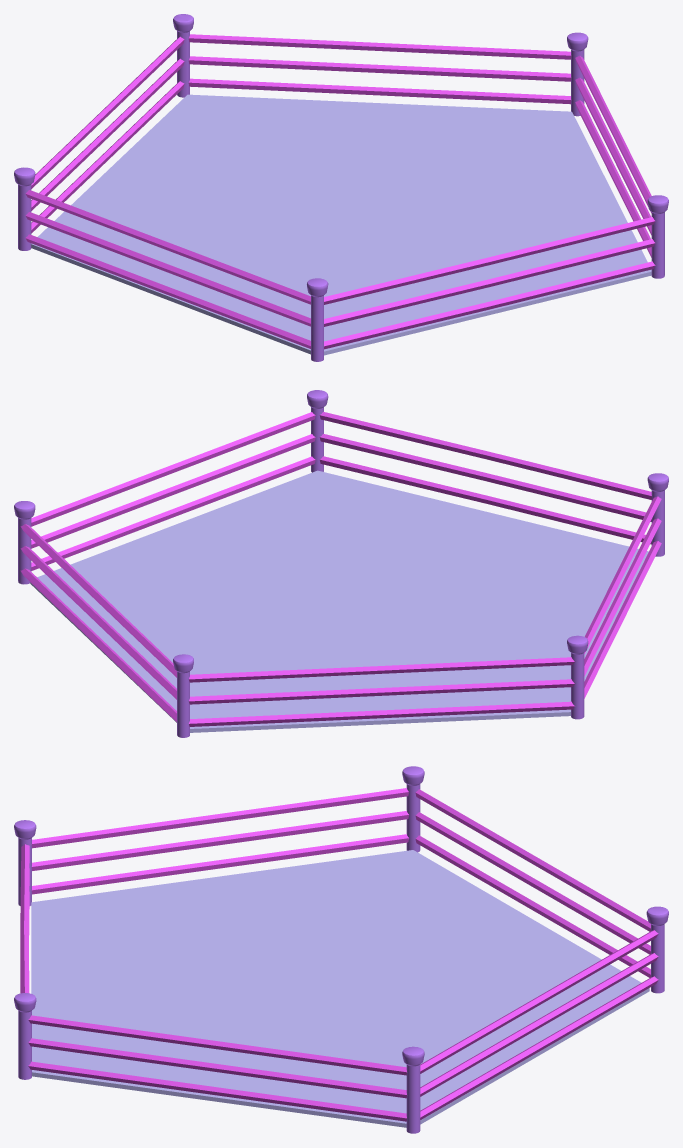
File: Loca_4.fbx
3 views of the same model, one above another, from view 1: azimuth 30°, elevation 25°; view 2: azimuth 150°, elevation 25°; view 3: azimuth 270°, elevation 25° (orthographic). The views are drawn at different scales.
Parts seen in each view (by area): view 1: Loca_4; view 2: Loca_4; view 3: Loca_4.
Boxes of the visible parts, x1,y1,x2,y2 form: Loca_4: [14, 14, 668, 361]; Loca_4: [14, 390, 668, 737]; Loca_4: [14, 766, 668, 1133].
Size of the model in its own units: 765 by 99.67 by 731.
